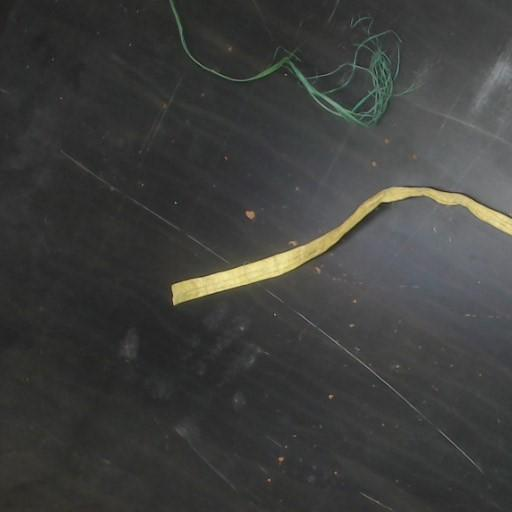thread: (171, 187, 511, 305), (169, 0, 399, 126)
